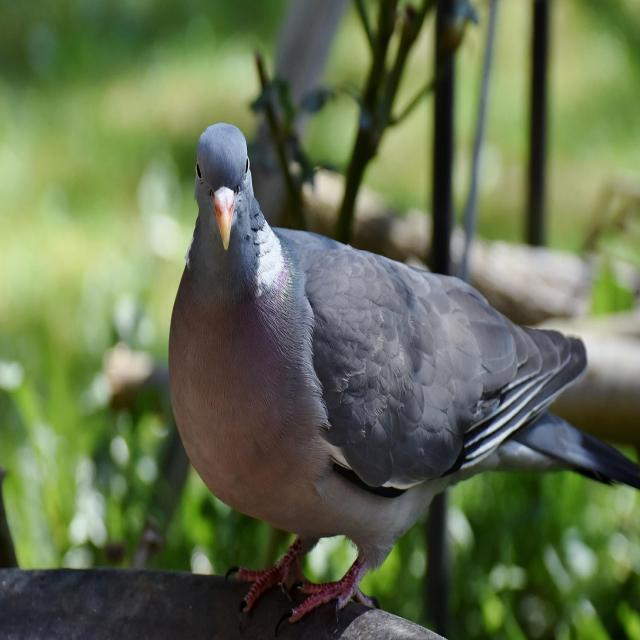pegion: (121, 110, 592, 632)
